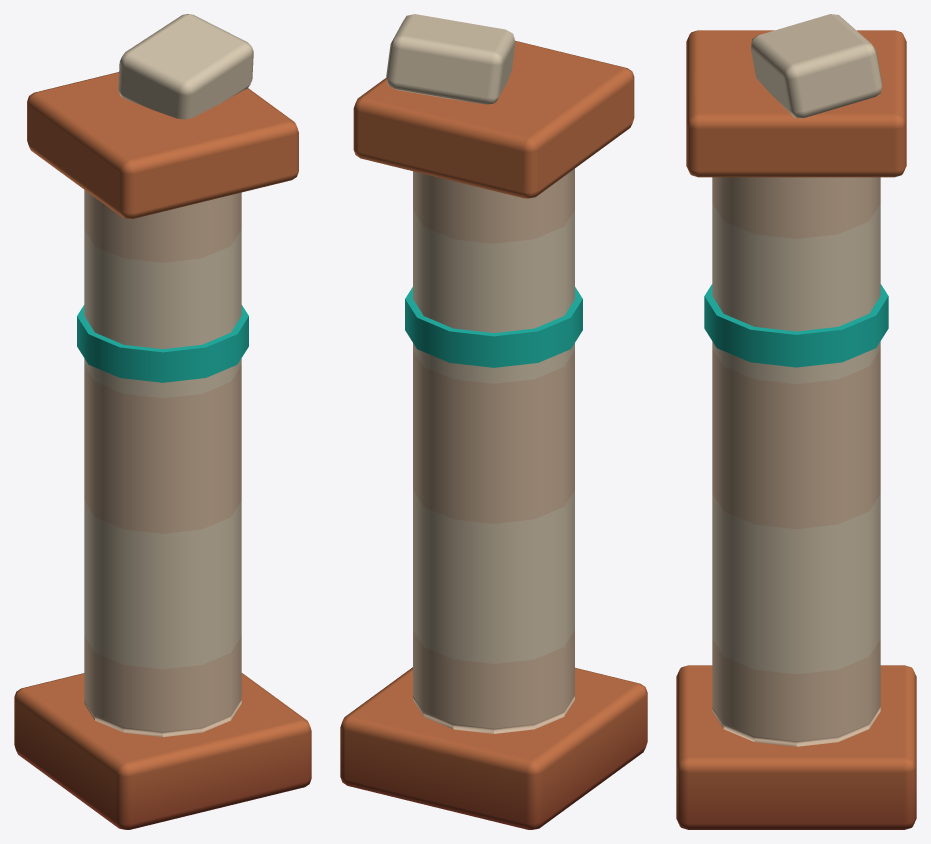
Rendered from ENV_RuinPillar.glb.
3 views of the same model, side by side, from view 1: azimuth 30°, elevation 25°; view 2: azimuth 150°, elevation 25°; view 3: azimuth 270°, elevation 25° (orthographic). The views are drawn at different scales.
Visible parts, largest first — view 1: Pillar; view 2: Pillar; view 3: Pillar.
Boxes of the visible parts, x1,y1,x2,y2 form: Pillar: [14, 14, 311, 829]; Pillar: [340, 14, 647, 829]; Pillar: [676, 14, 916, 829].
Size of the model in its own units: 1.2 by 4.25 by 1.2.
